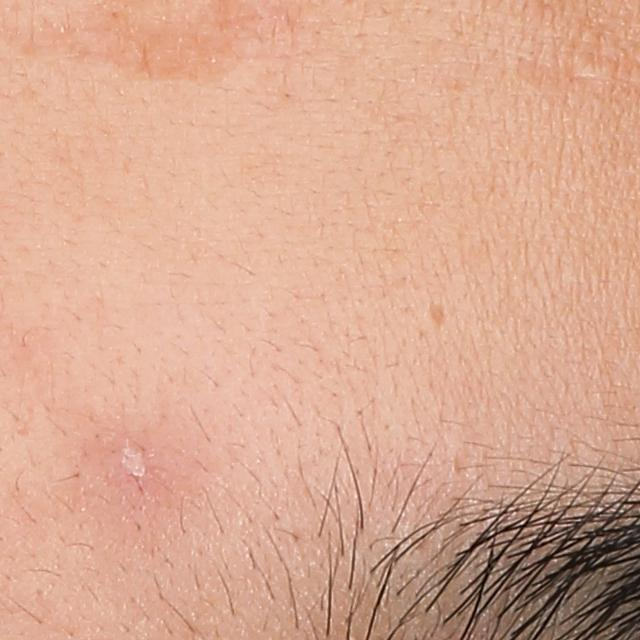atrophic_scar: (549, 55, 604, 94), (424, 299, 450, 332)
